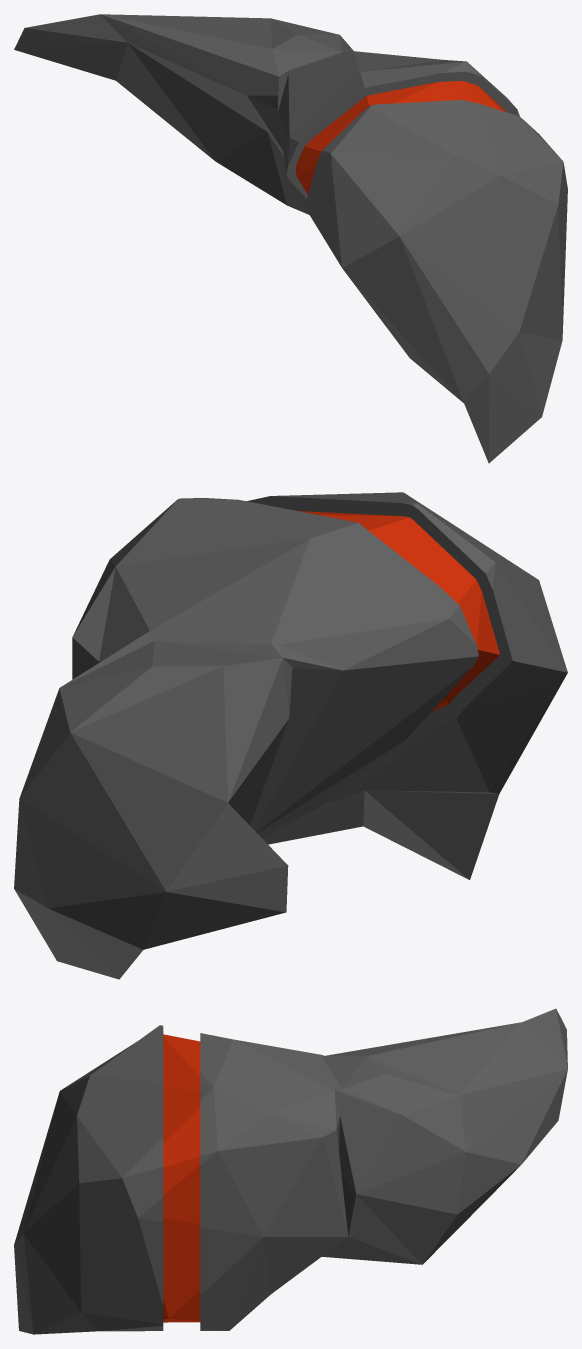
The model's file is mechliver.fbx.
3 renders of one model, top to bottom at view 1: azimuth 30°, elevation 25°; view 2: azimuth 150°, elevation 25°; view 3: azimuth 270°, elevation 25°, orthographic. The views are drawn at different scales.
Parts seen in each view (by area): view 1: Boole_1, Liver_1; view 2: Boole_1, Liver_1; view 3: Boole_1, Liver_1.
Part boxes in pixels (<box>): Boole_1: <box>14,14,567,463</box>; Liver_1: <box>295,81,507,194</box>; Boole_1: <box>14,492,567,979</box>; Liver_1: <box>298,511,499,712</box>; Boole_1: <box>14,1008,567,1334</box>; Liver_1: <box>163,1034,200,1322</box>.
Bounding box in the file's own units: 9.27 × 8.57 × 15.
